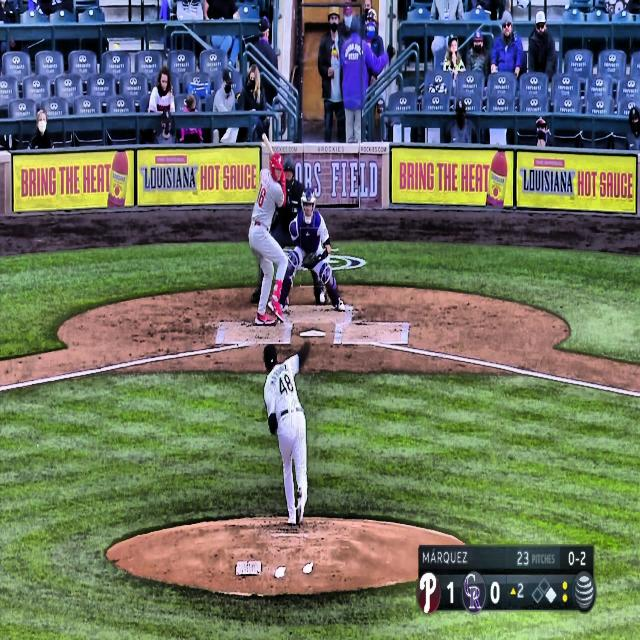baseball: (319, 291, 326, 305)
